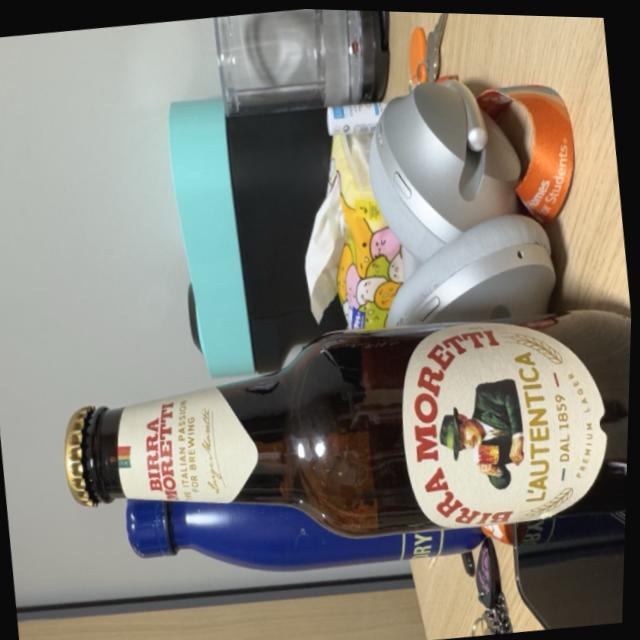beer: (38, 284, 633, 581)
